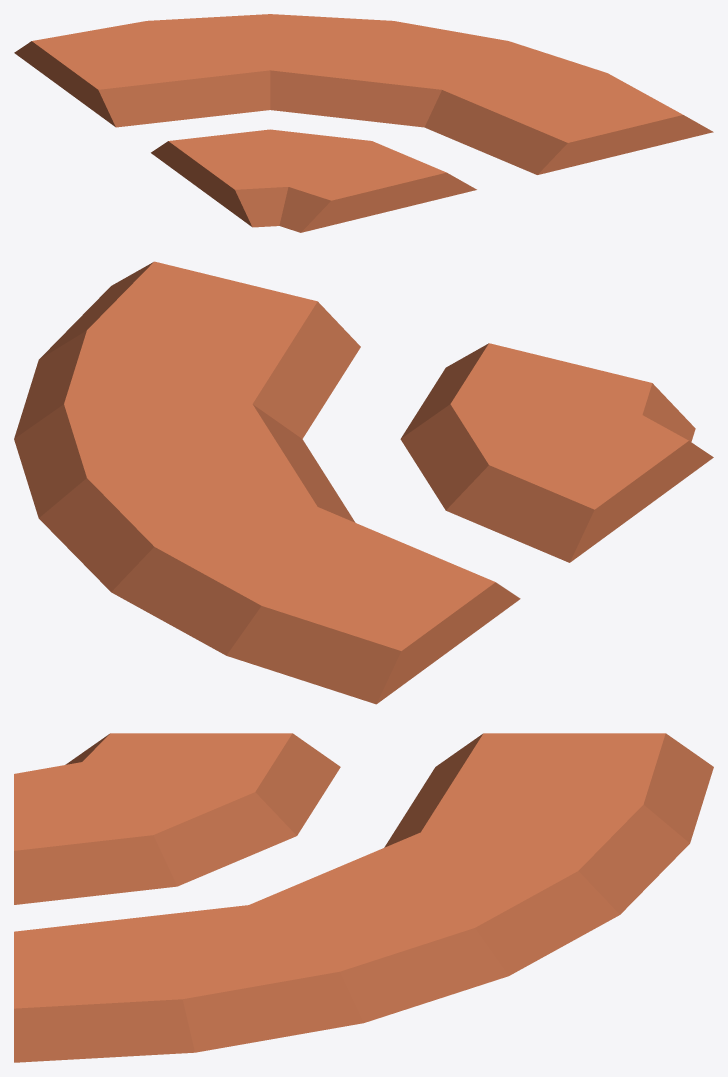
The picture shows the model from 3 angles, top to bottom: view 1: azimuth 30°, elevation 25°; view 2: azimuth 150°, elevation 25°; view 3: azimuth 270°, elevation 25°; orthographic projection. The views are drawn at different scales.
Parts seen in each view (by area): view 1: crops_dirtDoubleRowCorner; view 2: crops_dirtDoubleRowCorner; view 3: crops_dirtDoubleRowCorner.
Boxes of the visible parts, x1,y1,x2,y2 form: crops_dirtDoubleRowCorner: [14, 14, 713, 232]; crops_dirtDoubleRowCorner: [14, 261, 713, 704]; crops_dirtDoubleRowCorner: [14, 733, 713, 1062].
Size of the model in its own units: 0.938 by 0.05 by 0.938.
